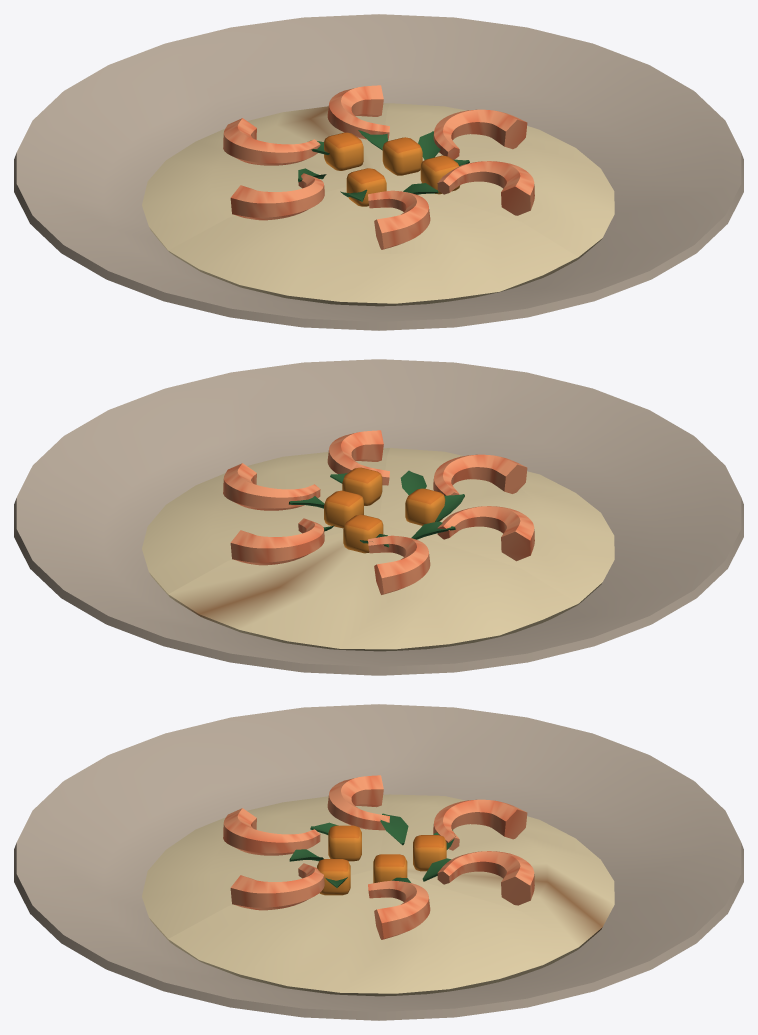
File: dish-shrimp-bowl-lod1.glb
3 views of the same model, one above another, from view 1: azimuth 30°, elevation 25°; view 2: azimuth 150°, elevation 25°; view 3: azimuth 270°, elevation 25° (orthographic).
Parts seen in each view (by area): view 1: shrimp-bowl.lod1__table warm glaze, shrimp-bowl.lod1__food, shrimp-bowl.lod1__food glaze; view 2: shrimp-bowl.lod1__table warm glaze, shrimp-bowl.lod1__food, shrimp-bowl.lod1__food glaze; view 3: shrimp-bowl.lod1__table warm glaze, shrimp-bowl.lod1__food, shrimp-bowl.lod1__food glaze.
Part boxes in pixels (left/top/right/bottom): shrimp-bowl.lod1__table warm glaze: left=14, top=14, right=743, bottom=330; shrimp-bowl.lod1__food: left=142, top=103, right=614, bottom=306; shrimp-bowl.lod1__food glaze: left=223, top=85, right=534, bottom=249; shrimp-bowl.lod1__table warm glaze: left=14, top=359, right=743, bottom=675; shrimp-bowl.lod1__food: left=142, top=448, right=614, bottom=651; shrimp-bowl.lod1__food glaze: left=223, top=430, right=534, bottom=594; shrimp-bowl.lod1__table warm glaze: left=14, top=704, right=743, bottom=1020; shrimp-bowl.lod1__food: left=142, top=794, right=614, bottom=996; shrimp-bowl.lod1__food glaze: left=223, top=775, right=534, bottom=939.
Bounding box in the file's own units: 0.26 × 0.0437 × 0.2586.
